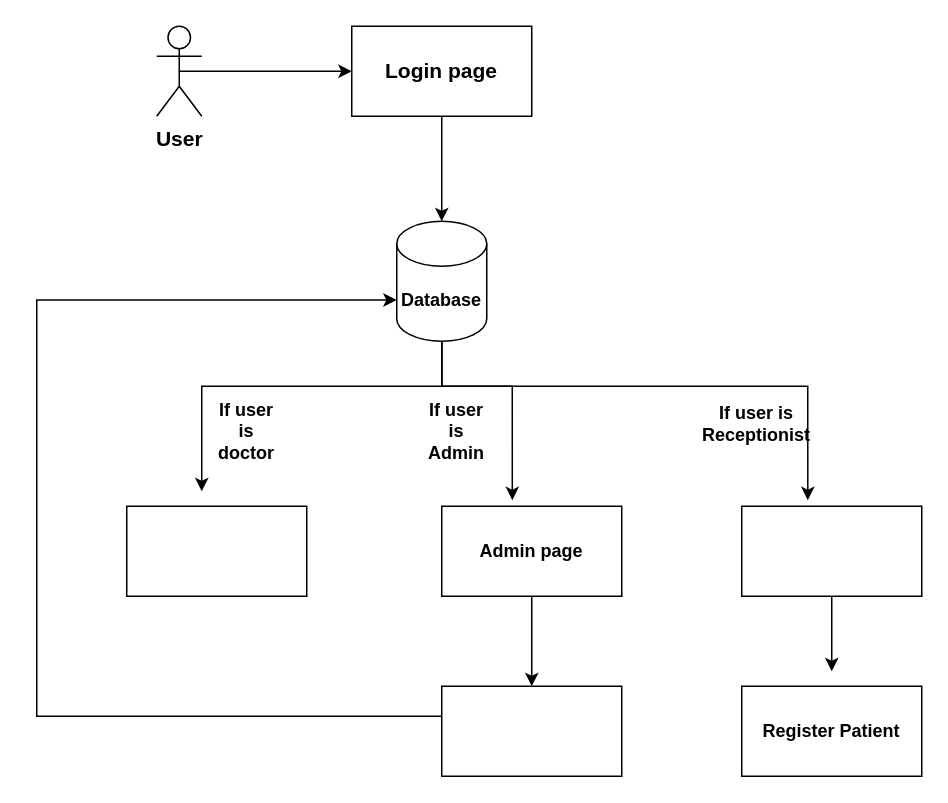
This 948x803 diagram has some shape labels left out. The shapes that lost their labels are listed below. From the top down, each one's centre as x and y in pixels, then its label:
(216,550): Doctor page
(831,550): Receptionist Page
(531,730): Create User
